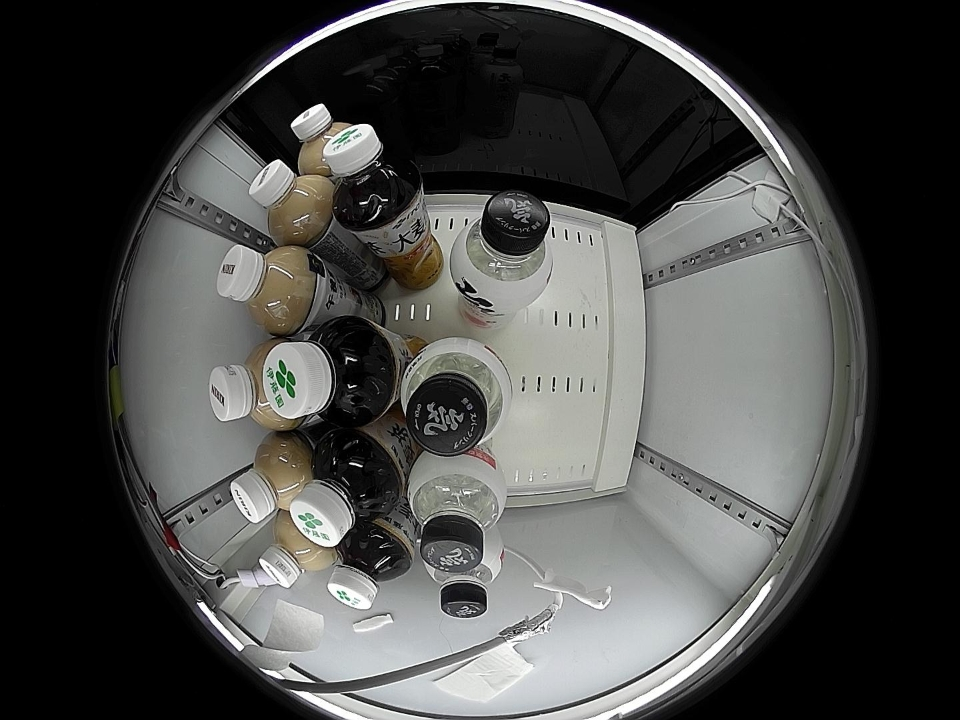damaicha: (265, 317, 397, 427), (290, 430, 404, 547), (324, 123, 423, 230), (328, 526, 413, 611)
wuhounaicha: (217, 243, 316, 335), (209, 336, 303, 429), (231, 431, 313, 524), (249, 159, 332, 244), (258, 516, 336, 588), (290, 102, 353, 172)
yuanqishui: (401, 337, 512, 456), (450, 189, 554, 309), (407, 452, 507, 573), (423, 543, 504, 618)
